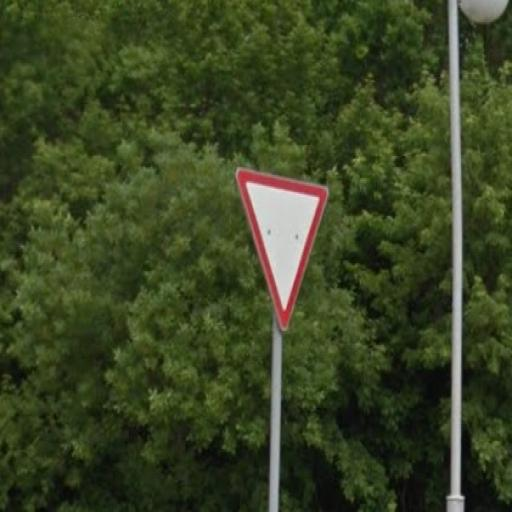traffic_sign: (237, 167, 331, 334)
